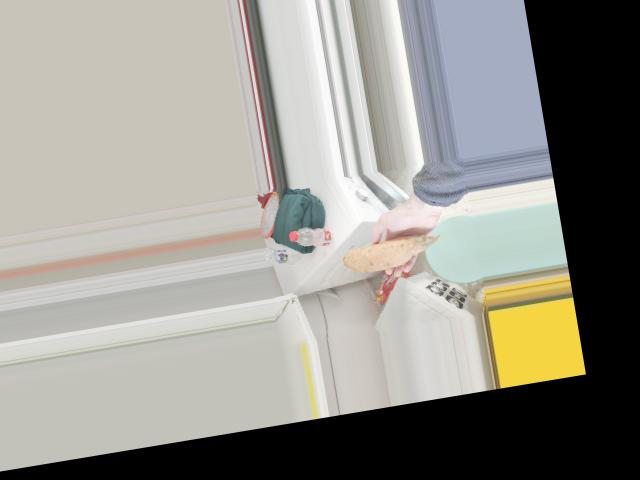sweet_potato: (348, 229, 438, 269)
